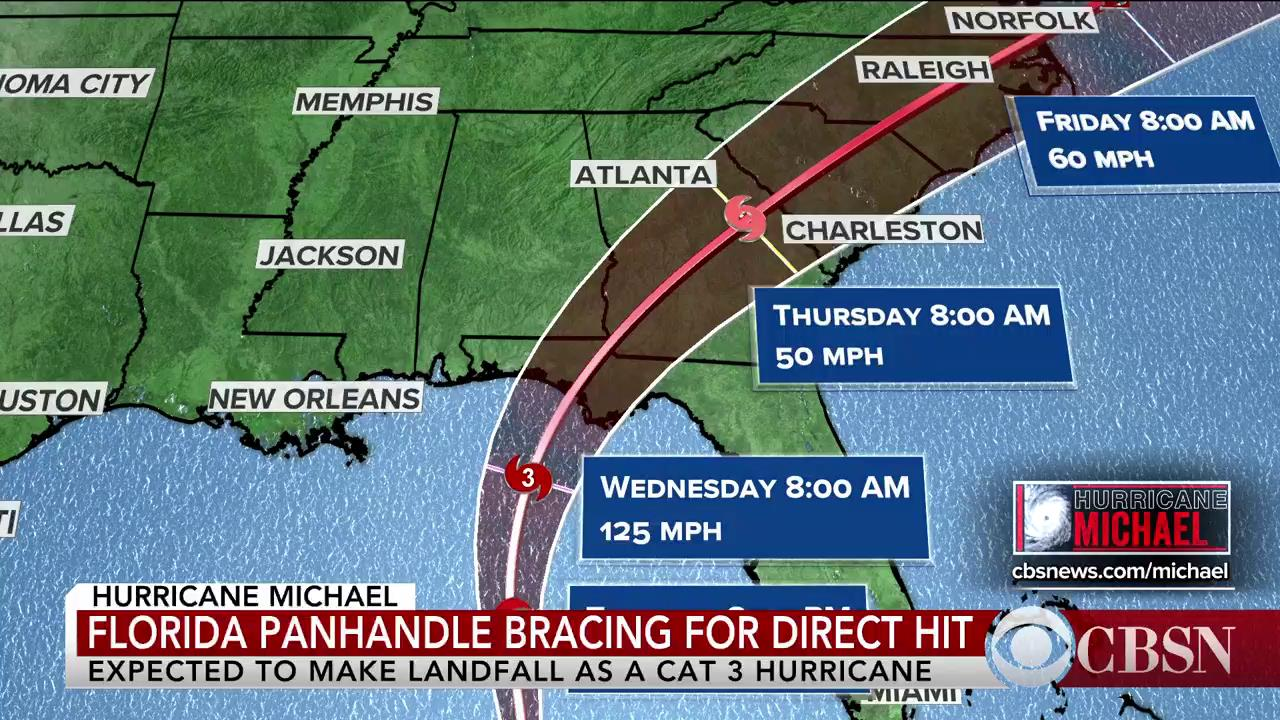125 MPH: (598, 516, 725, 546)
3: (514, 464, 542, 490)
50 MPH: (771, 341, 888, 373)
60 MPH: (1040, 142, 1158, 173)
ATLANTA: (575, 161, 713, 185)
CBSN: (1075, 620, 1236, 676)
CHARLESTON: (786, 213, 982, 242)
EXPECTED TO MAKE LANDFALL AS A CAT 3 HURRICANE: (85, 653, 938, 685)
FLORIDA PANHANDLE BRACING FOR DIRECT HIT: (85, 613, 976, 653)
FRIDAY 8:00 AM: (1032, 103, 1256, 134)
HURRICANE: (1070, 484, 1229, 509)
HURRICANE MICHAEL: (86, 582, 401, 611)
I: (3, 506, 17, 534)
JACKSON: (260, 242, 398, 268)
LLAS: (1, 205, 67, 234)
MEMPHIS: (298, 89, 433, 112)
MIAMI: (862, 684, 960, 703)
MICHAEL: (1070, 509, 1210, 548)
NEW ORLEANS: (208, 382, 418, 408)
NORFOLK: (950, 6, 1096, 30)
OMA CITY: (1, 71, 150, 96)
RALEIGH: (862, 56, 988, 82)
THURSDAY 8:00 AM: (772, 299, 1051, 327)
USTON: (1, 384, 99, 411)
WEDNESDAY 8:00 AM: (595, 469, 912, 501)
cbsnews.com/michael: (1011, 558, 1231, 582)
